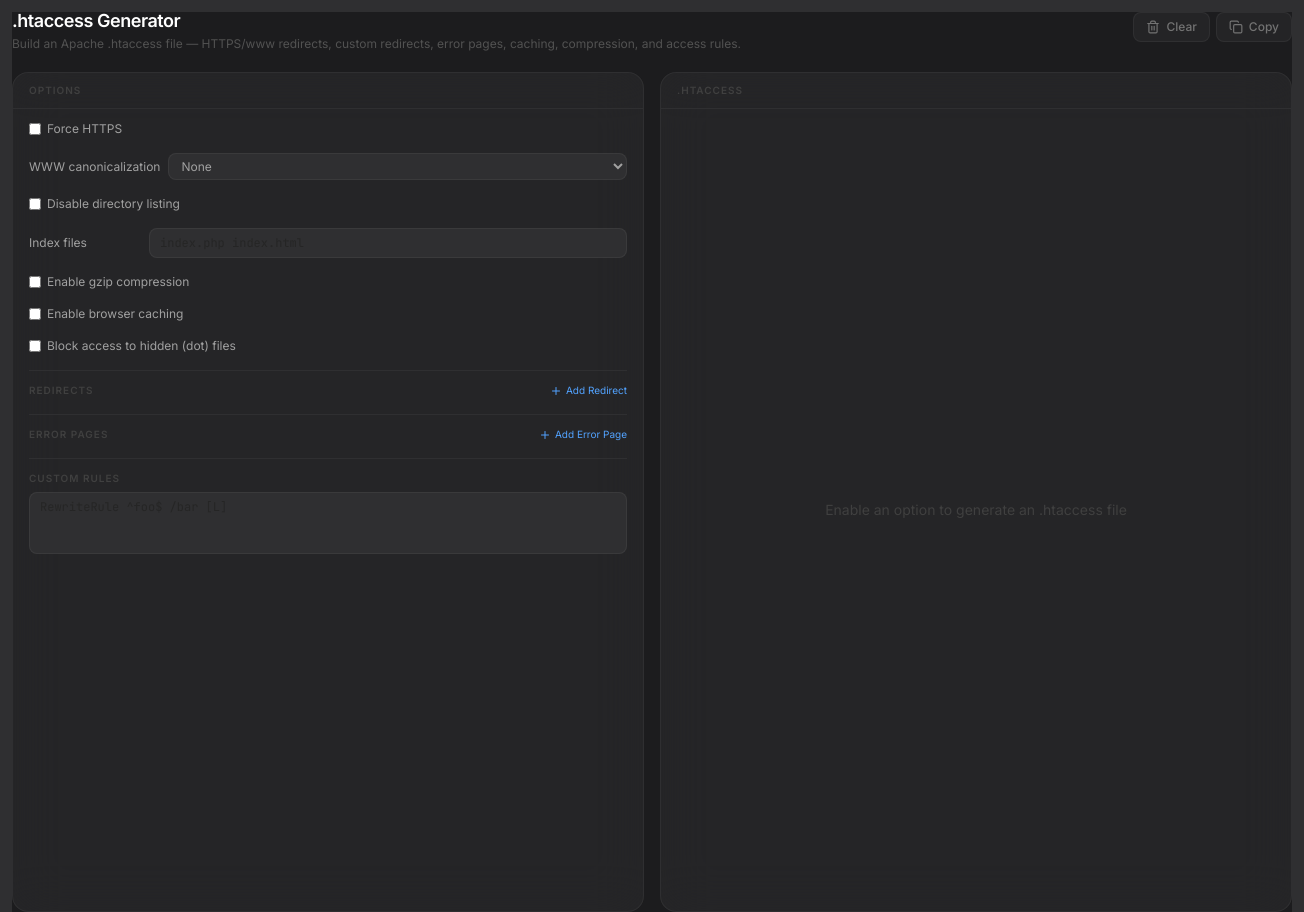
Test: HtaccessGenerator › enables directory listing and gzip toggles
Click the checkbox labelled "Disable directory listing" at (35, 204), box [29,198,41,210]
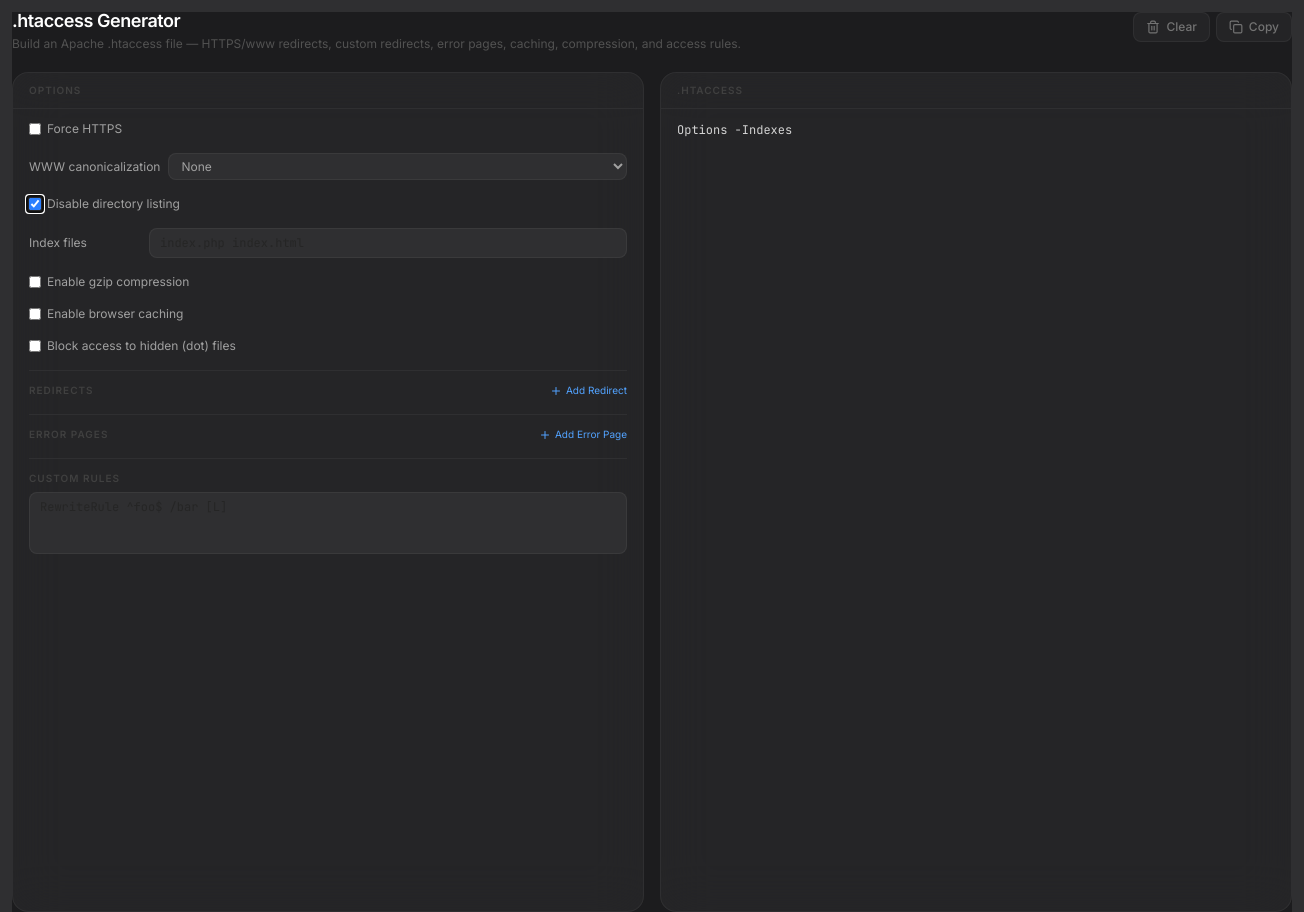
Click the checkbox labelled "Enable gzip compression" at (35, 282), box [29,276,41,288]
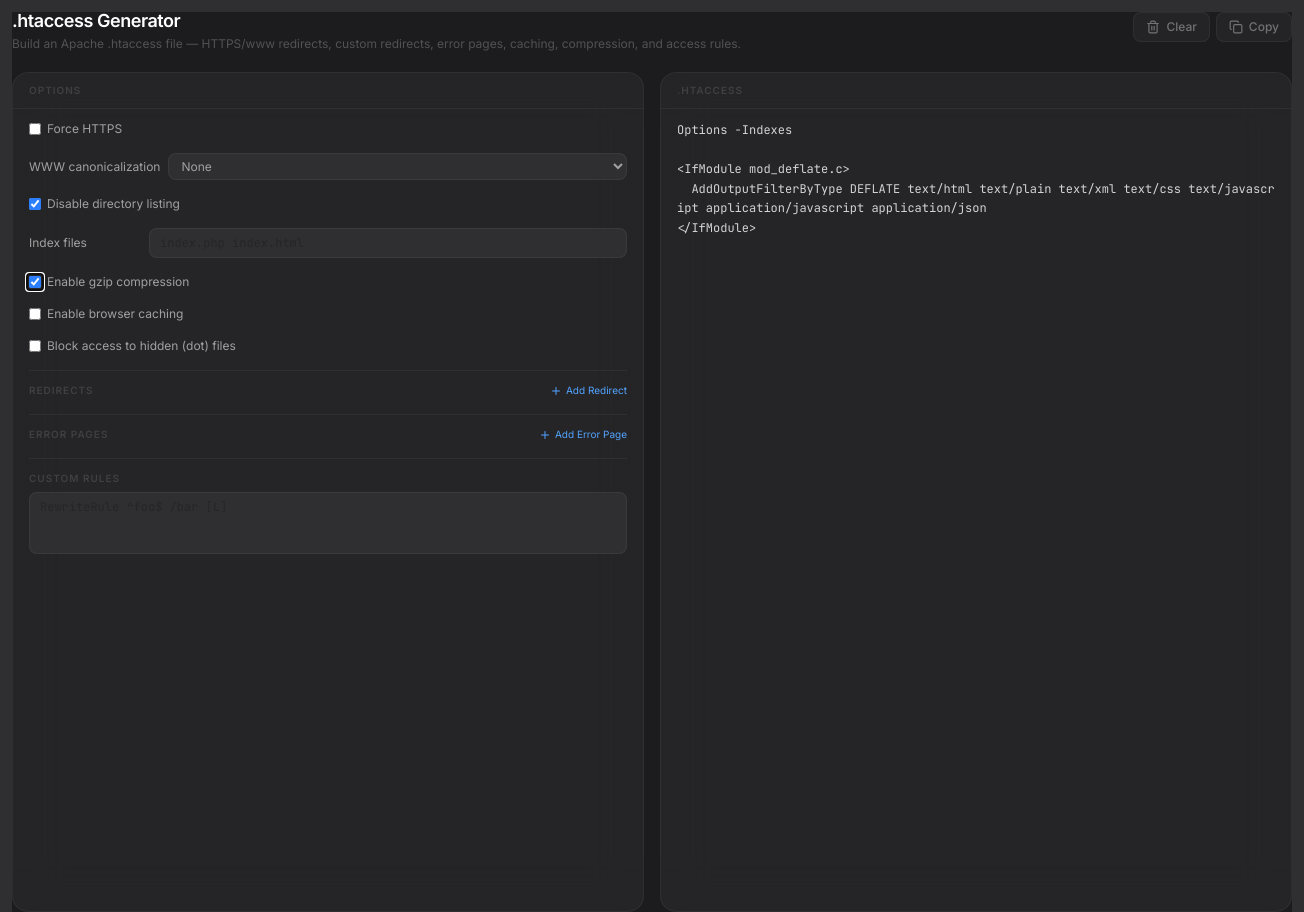
Expected: the text with test id "htaccess-output" shows "Options -Indexes", [677,122,1275,236]
Expected: the text with test id "htaccess-output" shows "mod_deflate", [677,122,1275,236]
